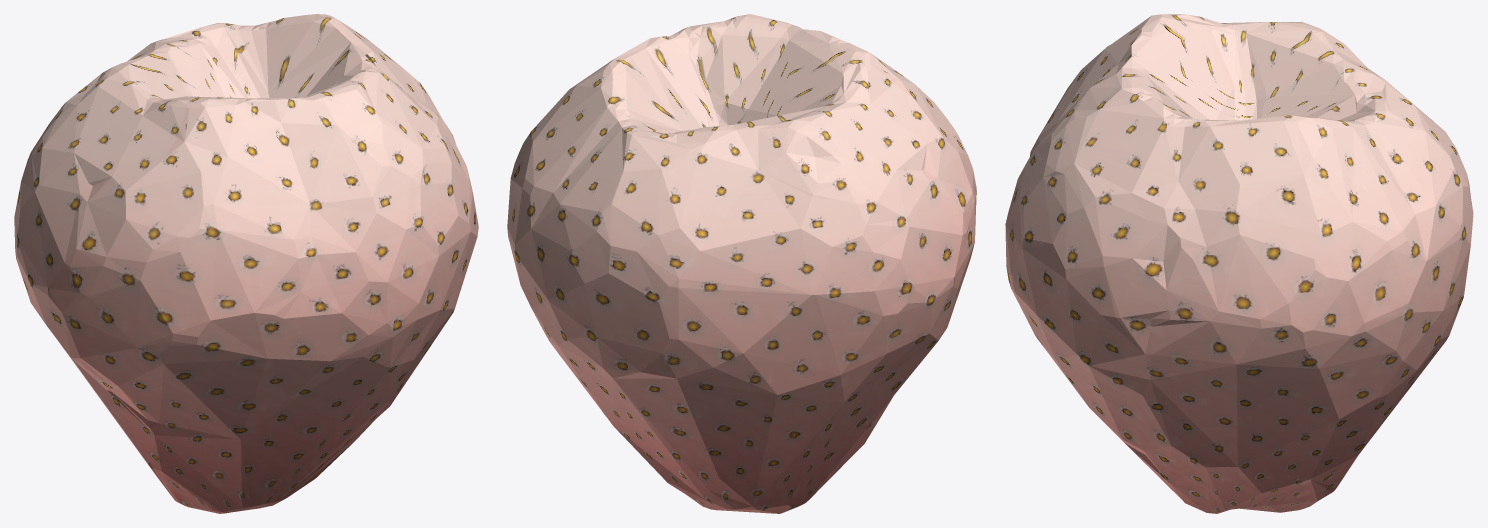
3 views of the same model, side by side, from view 1: azimuth 30°, elevation 25°; view 2: azimuth 150°, elevation 25°; view 3: azimuth 270°, elevation 25° (orthographic). The views are drawn at different scales.
Parts seen in each view (by area): view 1: _004_Meshed; view 2: _004_Meshed; view 3: _004_Meshed.
Part boxes in pixels (left/top/right/bottom): _004_Meshed: left=14, top=14, right=478, bottom=513; _004_Meshed: left=507, top=14, right=976, bottom=513; _004_Meshed: left=1005, top=14, right=1473, bottom=513.
Bounding box in the file's own units: 0.1098 × 0.1046 × 0.1135.
1 material, 1 textured.
